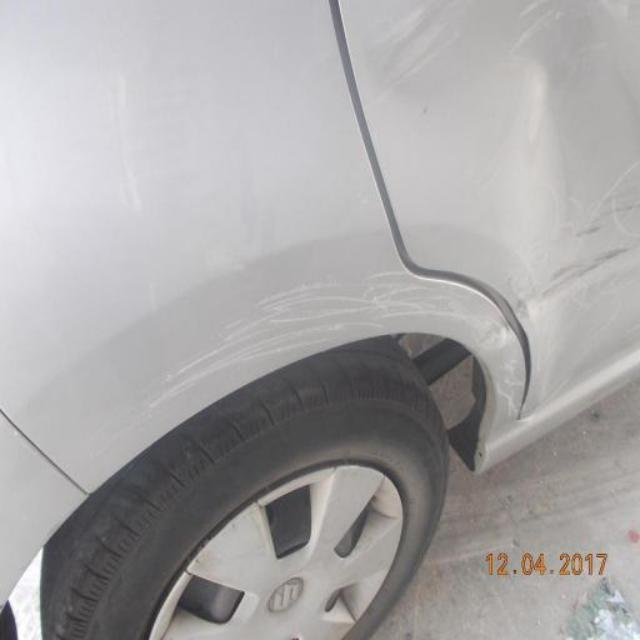scratch: (137, 276, 357, 423), (504, 240, 640, 329), (355, 270, 494, 326), (570, 187, 639, 247), (495, 324, 517, 403)
